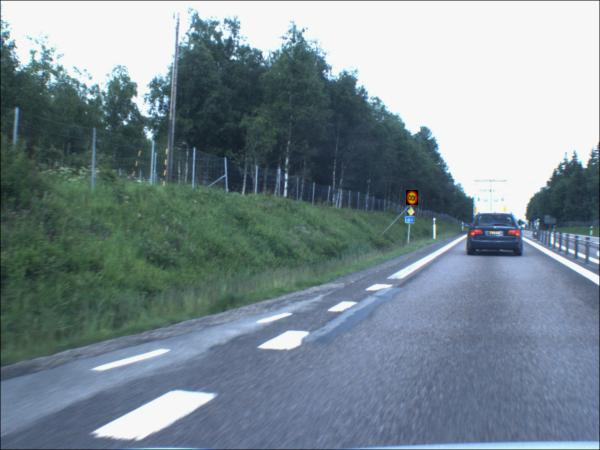100_SIGN: (406, 192, 419, 208)
PRIORITY_ROAD: (407, 209, 416, 217)
